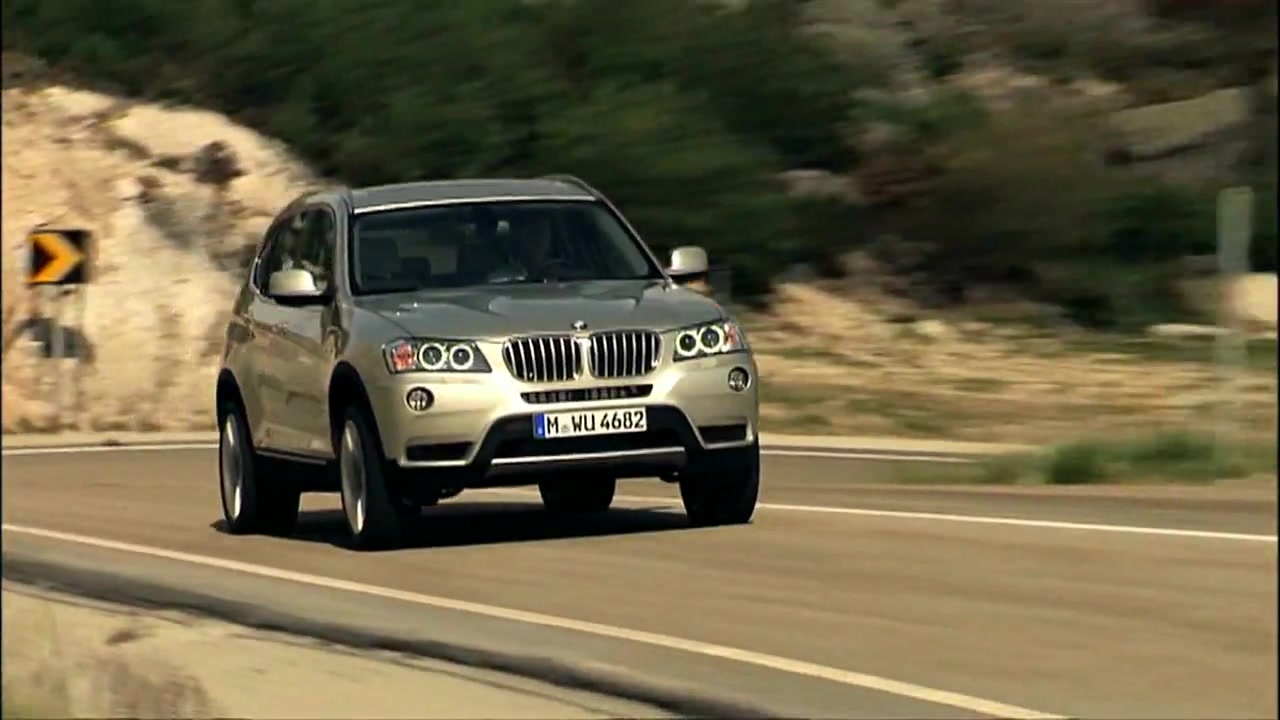car: (210, 170, 767, 544)
